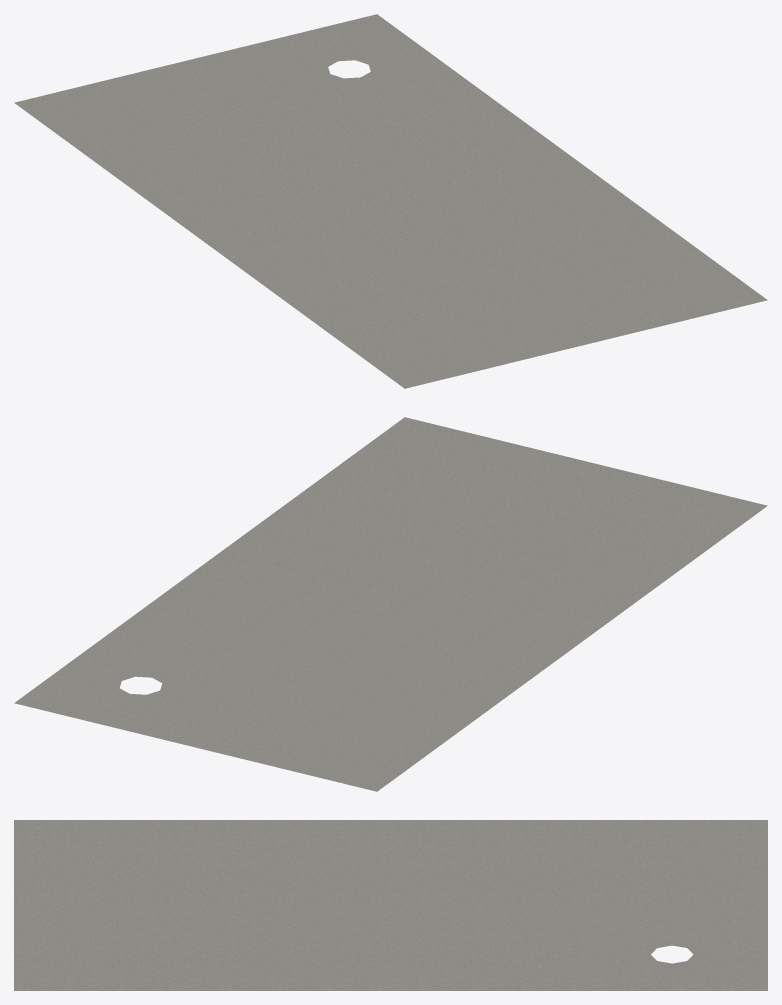
File: kd_stage_135c43_4_19_bounded_piece_2.glb
3 views of the same model, one above another, from view 1: azimuth 30°, elevation 25°; view 2: azimuth 150°, elevation 25°; view 3: azimuth 270°, elevation 25° (orthographic). The views are drawn at different scales.
Visible parts, largest first — view 1: kd_stage_135c43_4_19_bounded_piece_2; view 2: kd_stage_135c43_4_19_bounded_piece_2; view 3: kd_stage_135c43_4_19_bounded_piece_2.
Boxes of the visible parts, box(x1,y1,x2,y2) form: kd_stage_135c43_4_19_bounded_piece_2: box(14, 14, 767, 388); kd_stage_135c43_4_19_bounded_piece_2: box(14, 417, 767, 791); kd_stage_135c43_4_19_bounded_piece_2: box(14, 820, 767, 990).
Size of the model in its own units: 2.84 by 4.77e-07 by 5.3.
1 material, 1 textured.
